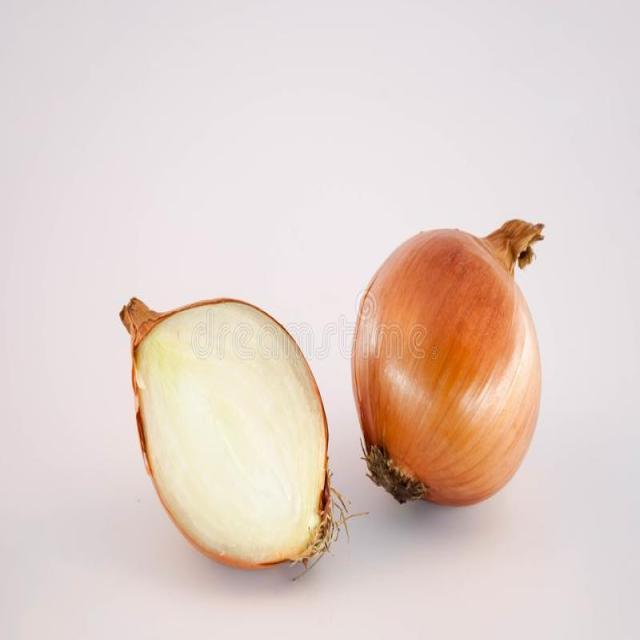Onion: (118, 295, 371, 585), (350, 216, 544, 507)
